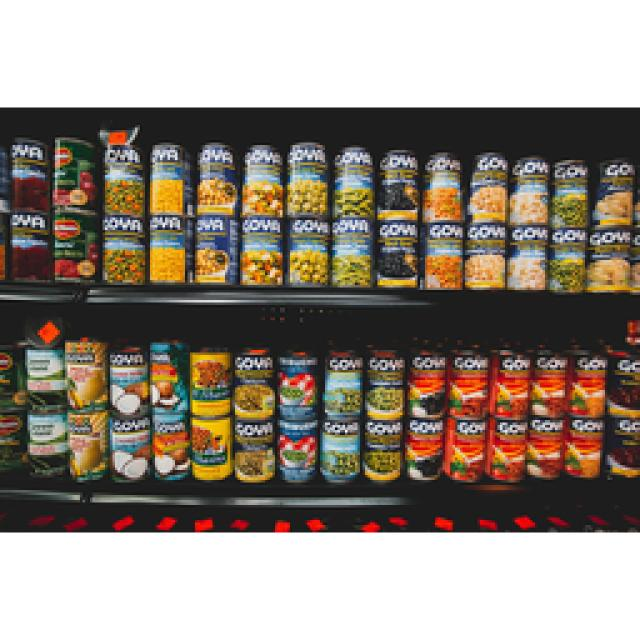alumunium: (0, 137, 640, 289), (0, 332, 640, 482)
